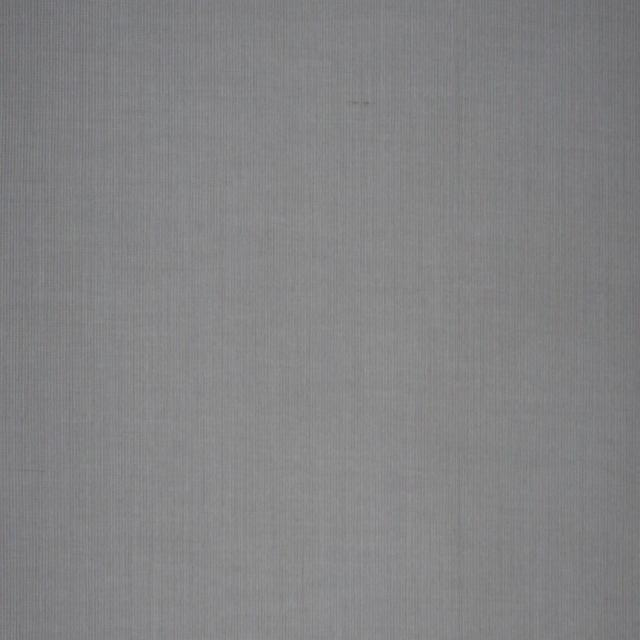dirty: (348, 100, 372, 107)
